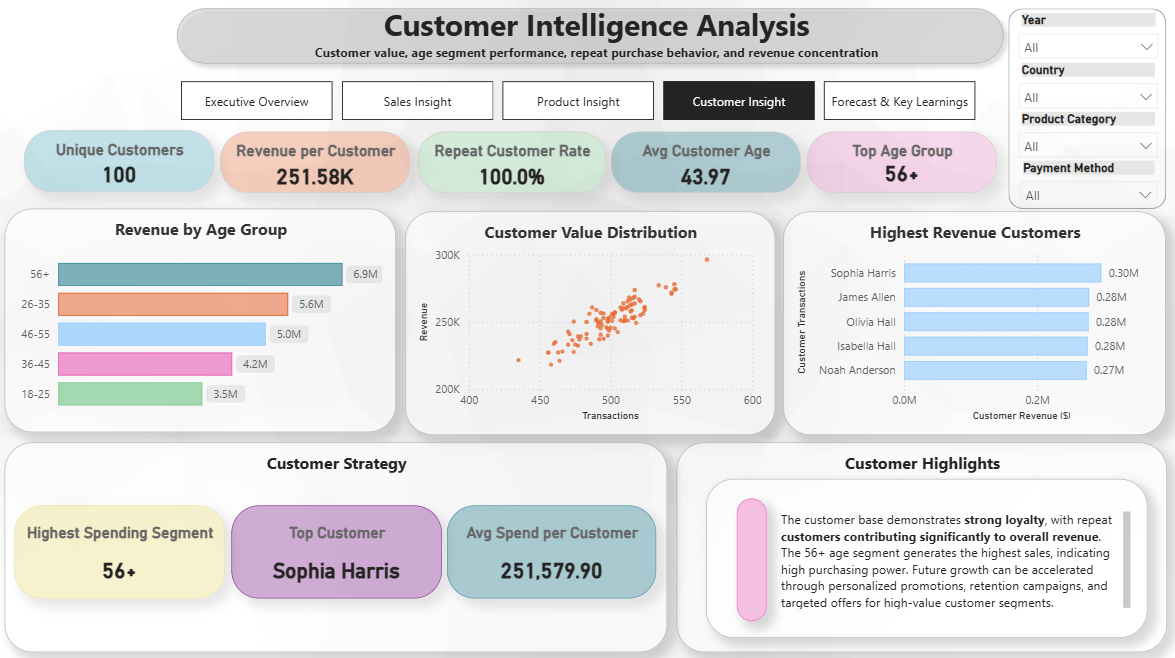

Layout of this report page (visuals, bound fields, positions):
{"tool":"powerbi","page":{"name":"Customer Insight","canvas":[1280,720],"ordinal":3},"visuals":[{"type":"pageNavigator","box":[197,88,864.7,42.4],"z":0},{"type":"shape","box":[1093.1,9.2,170.8,217],"z":1000},{"type":"slicer","fields":{"Values":["Dim Country.Country"]},"box":[1094.2,65,170,56.7],"z":2000},{"type":"slicer","fields":{"Values":["Dim Date.Year"]},"box":[1093.3,9.2,170.8,61.7],"z":3000},{"type":"slicer","fields":{"Values":["Dim Product.Product Category"]},"box":[1094.2,118,170,55.8],"z":4000},{"type":"slicer","fields":{"Values":["Dim Payment Method.Payment Method"]},"box":[1096.2,171.5,167.7,56.9],"z":5000},{"type":"card","title":"Unique Customers","fields":{"Values":["Measure Table.Unique Customers"]},"box":[27.1,141.4,205.7,67.1],"z":6000},{"type":"card","title":"Revenue per Customer","fields":{"Values":["Measure Table.Revenue per Customer"]},"box":[240,142.5,205.8,66.7],"z":7000},{"type":"card","title":"Repeat Customer Rate","fields":{"Values":["Measure Table.Repeat Customer Rate"]},"box":[452.5,141.7,204.2,66.7],"z":8000},{"type":"card","title":"Avg Customer Age","fields":{"Values":["Measure Table.Average Customer Age"]},"box":[662.5,141.7,205.8,66.7],"z":9000},{"type":"card","title":"Top Age Group","fields":{"Values":["Measure Table.Top Age Group by Revenue"]},"box":[874.2,141.7,205.8,66.7],"z":10000},{"type":"shape","box":[183.8,0,913.2,77.9],"z":11000},{"type":"textbox","box":[197.1,0,900,108.6],"z":12000},{"type":"clusteredBarChart","title":"Revenue by Age Group","fields":{"Category":["Dim Customer.Age Group"],"Y":["Measure Table.Total Revenue"]},"box":[6.4,226.4,423.6,241.8],"z":13000},{"type":"scatterChart","title":"Customer Value Distribution","fields":{"Category":["Dim Customer.user_name"],"Size":["Measure Table.Revenue per Customer"],"X":["Measure Table.Total Transactions"],"Y":["Measure Table.Total Revenue"]},"box":[440,228.2,400.9,241.8],"z":14000},{"type":"clusteredBarChart","title":"Highest Revenue Customers","fields":{"Category":["Dim Customer.user_name"],"Y":["Measure Table.Total Revenue"]},"box":[849.1,228.2,414.5,241.8],"z":15000},{"type":"shape","title":"Customer Highlights","box":[732.7,478.2,530.9,227.3],"z":16000},{"type":"shape","title":"Market Leadership Insight","box":[765.8,518.5,477.6,172.4],"z":17000},{"type":"textbox","box":[840.7,548.2,388.5,115.9],"z":18000},{"type":"shape","title":"Market Leadership Insight","box":[798.3,539.7,32.5,132.8],"z":19000},{"type":"shape","title":"Customer Strategy","box":[6.4,478.2,717.3,227.3],"z":20000},{"type":"card","title":"Highest Spending Segment ","fields":{"Values":["Measure Table.Top Age Group by Revenue"]},"box":[16.7,547.5,227.5,100.8],"z":21000},{"type":"card","title":"Top Customer","fields":{"Values":["Measure Table.Top Customer"]},"box":[250.8,547.5,227.5,100.8],"z":22000},{"type":"card","title":"Avg Spend per Customer","fields":{"Values":["Measure Table.Revenue per Customer"]},"box":[485,547.5,226.7,100.8],"z":23000}]}

Visuals, with their boxes in screenshot pixels (x1, y1, x2, y2), scaled from the page's 1280x720 canvas onto the 1175x658 screenshot:
pageNavigator: (left=181, top=80, right=975, bottom=119)
shape: (left=1003, top=8, right=1160, bottom=207)
slicer - Dim Country.Country: (left=1004, top=59, right=1160, bottom=111)
slicer - Dim Date.Year: (left=1004, top=8, right=1160, bottom=65)
slicer - Dim Product.Product Category: (left=1004, top=108, right=1160, bottom=159)
slicer - Dim Payment Method.Payment Method: (left=1006, top=157, right=1160, bottom=209)
"Unique Customers" card: (left=25, top=129, right=214, bottom=191)
"Revenue per Customer" card: (left=220, top=130, right=409, bottom=191)
"Repeat Customer Rate" card: (left=415, top=129, right=603, bottom=190)
"Avg Customer Age" card: (left=608, top=129, right=797, bottom=190)
"Top Age Group" card: (left=802, top=129, right=991, bottom=190)
shape: (left=169, top=0, right=1007, bottom=71)
textbox: (left=181, top=0, right=1007, bottom=99)
"Revenue by Age Group" clusteredBarChart: (left=6, top=207, right=395, bottom=428)
"Customer Value Distribution" scatterChart: (left=404, top=209, right=772, bottom=430)
"Highest Revenue Customers" clusteredBarChart: (left=779, top=209, right=1160, bottom=430)
"Customer Highlights" shape: (left=673, top=437, right=1160, bottom=645)
"Market Leadership Insight" shape: (left=703, top=474, right=1141, bottom=631)
textbox: (left=772, top=501, right=1128, bottom=607)
"Market Leadership Insight" shape: (left=733, top=493, right=763, bottom=615)
"Customer Strategy" shape: (left=6, top=437, right=664, bottom=645)
"Highest Spending Segment " card: (left=15, top=500, right=224, bottom=592)
"Top Customer" card: (left=230, top=500, right=439, bottom=592)
"Avg Spend per Customer" card: (left=445, top=500, right=653, bottom=592)
